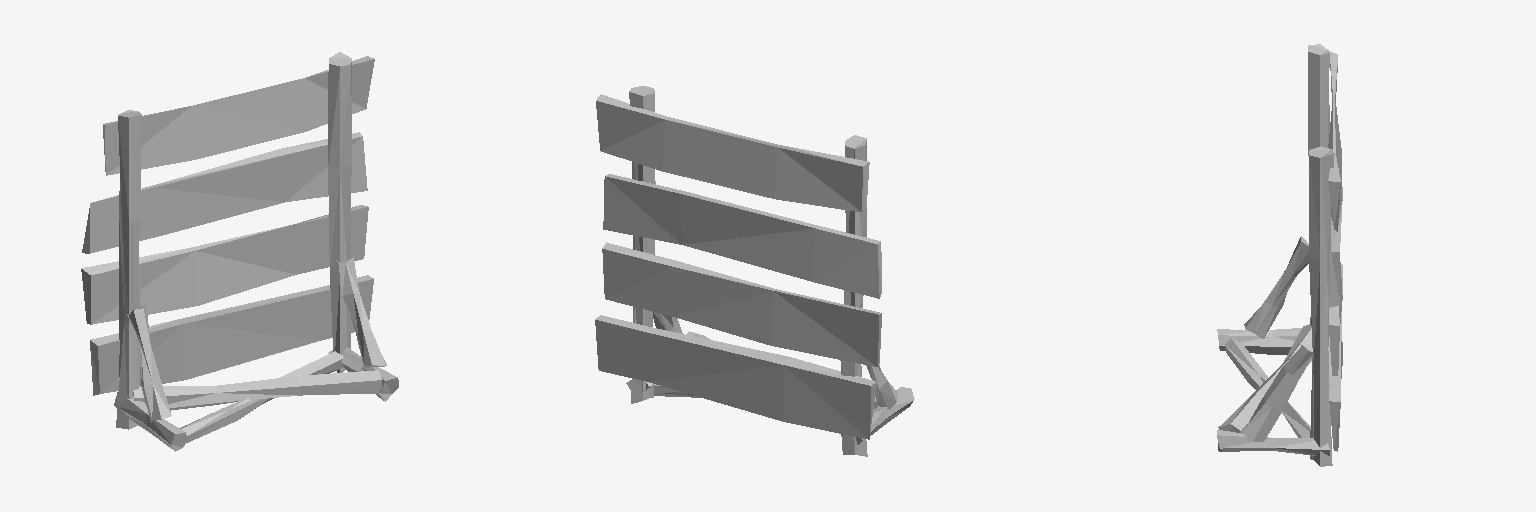
Rendered from wooden_barrier.obj.
The picture shows the model from 3 angles: view 1: azimuth 30°, elevation 25°; view 2: azimuth 150°, elevation 25°; view 3: azimuth 270°, elevation 25°; orthographic projection.
Size of the model in its own units: 2.05 by 2.15 by 0.7881.